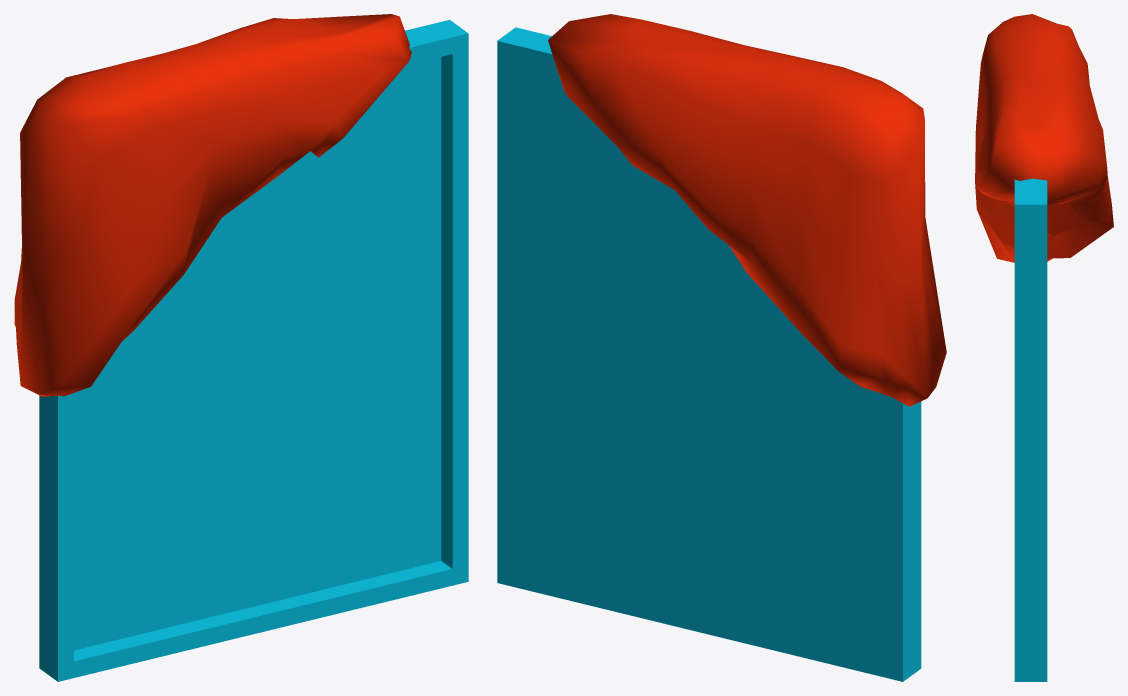
The model's file is FIxed Fixed Painting Slime.fbx.
3 renders of one model, left to right at view 1: azimuth 30°, elevation 25°; view 2: azimuth 150°, elevation 25°; view 3: azimuth 270°, elevation 25°, orthographic. The views are drawn at different scales.
Visible parts, largest first — view 1: Painting.001; view 2: Painting.001; view 3: Painting.001.
Boxes of the visible parts, x1,y1,x2,y2 form: Painting.001: (14,14,468,681); Painting.001: (497,14,946,681); Painting.001: (975,14,1113,681).
Size of the model in its own units: 813 by 1054 by 260.
